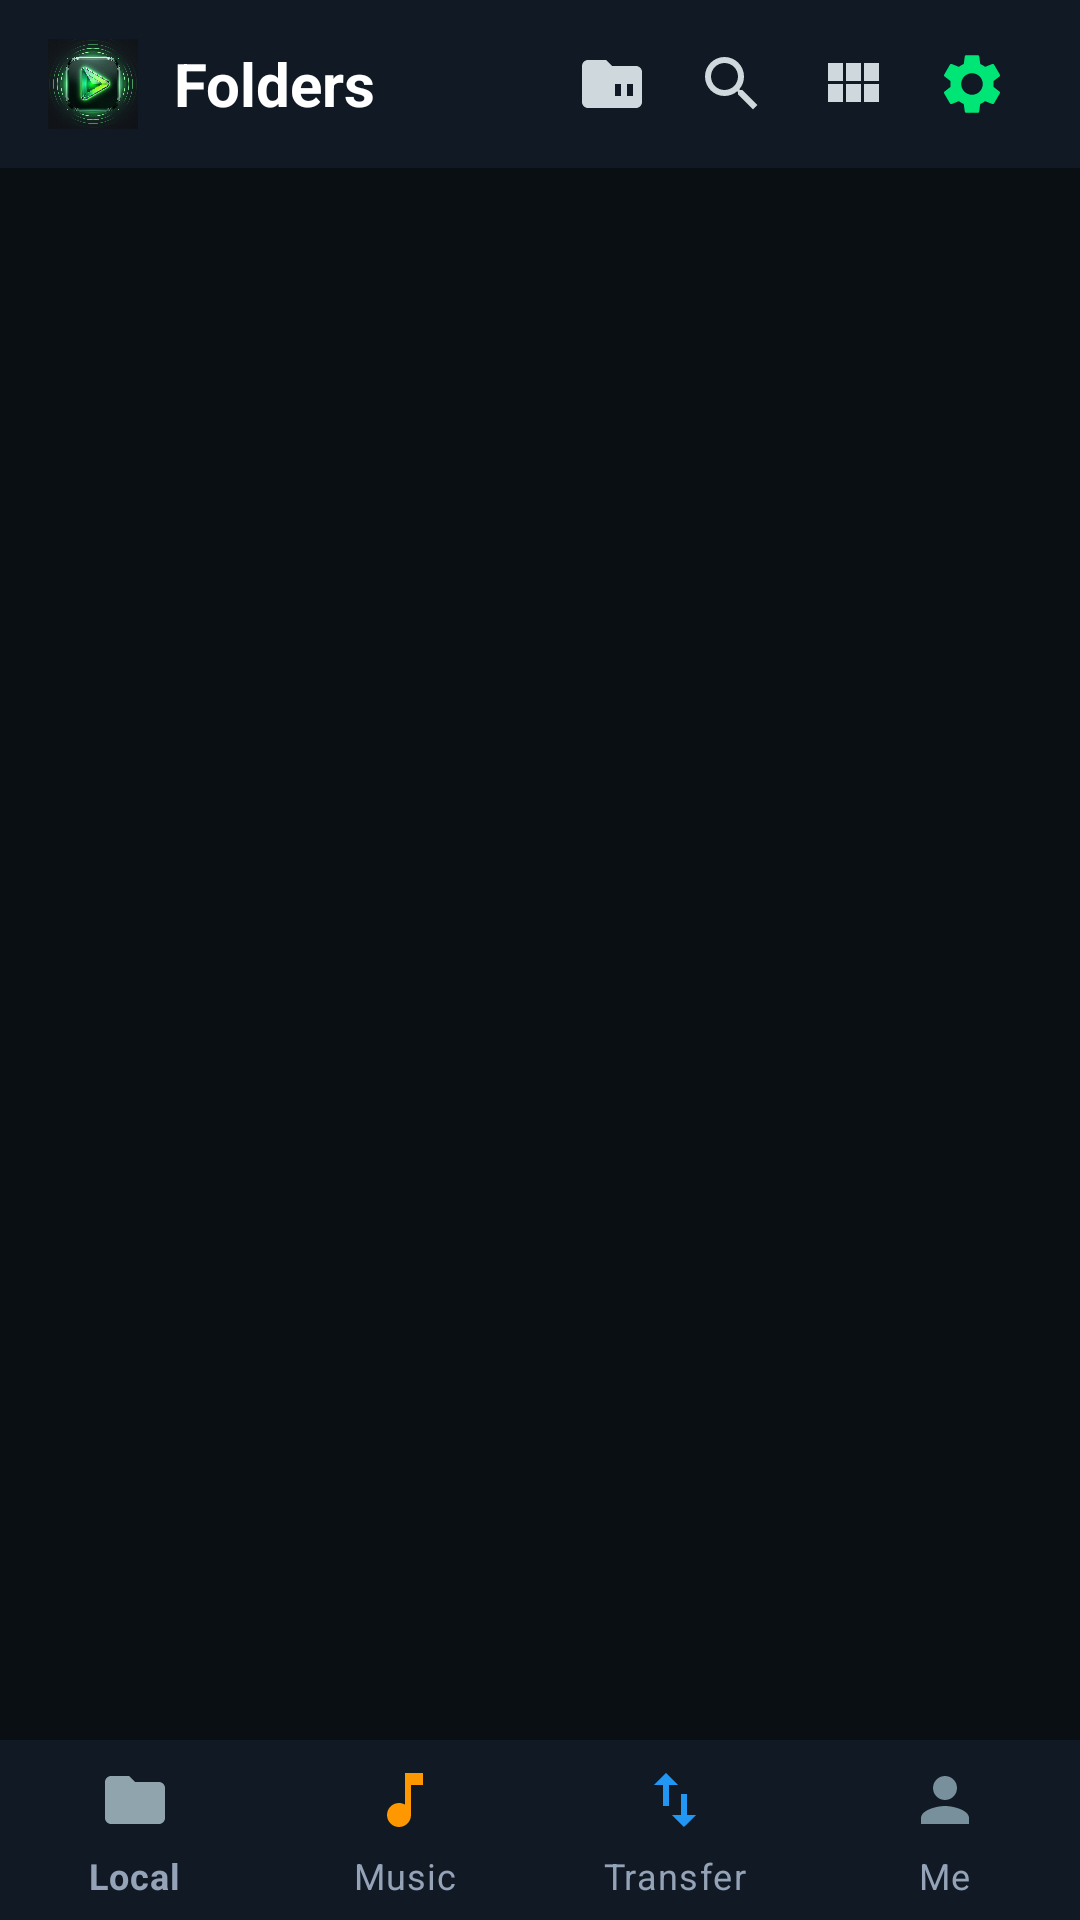

Screen size 1080*1920. Icon name, then its center in pixels as (x,y):
grid: (853,82)
search: (731,83)
settings: (972,84)
